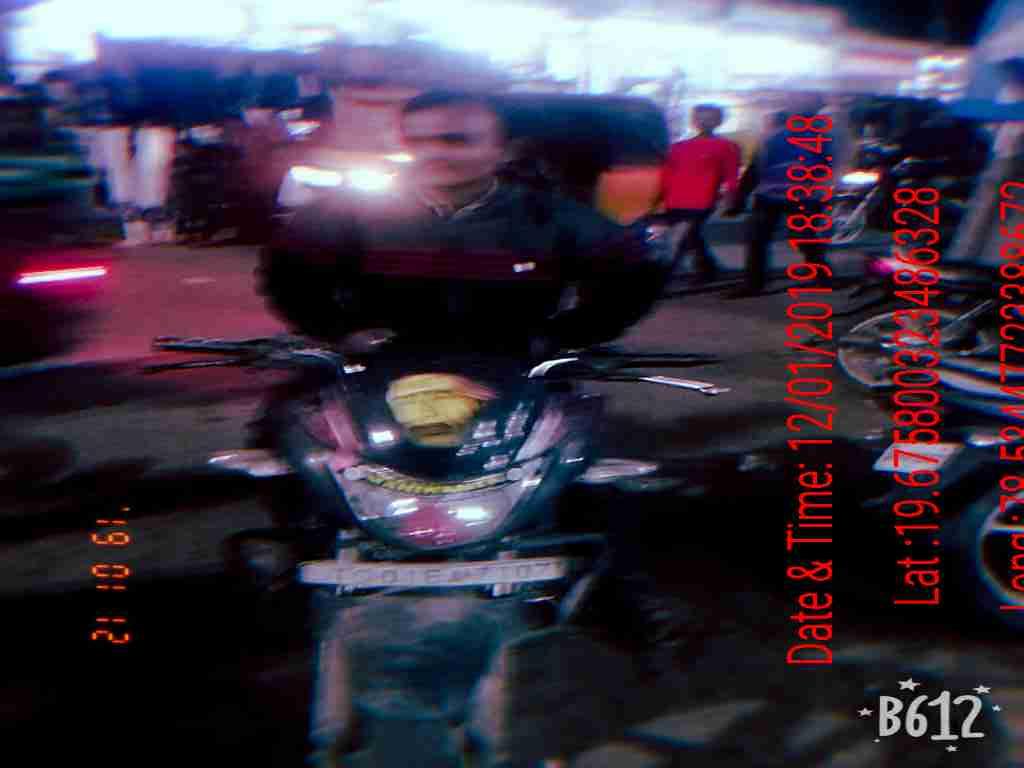plate: (304, 550, 568, 593)
